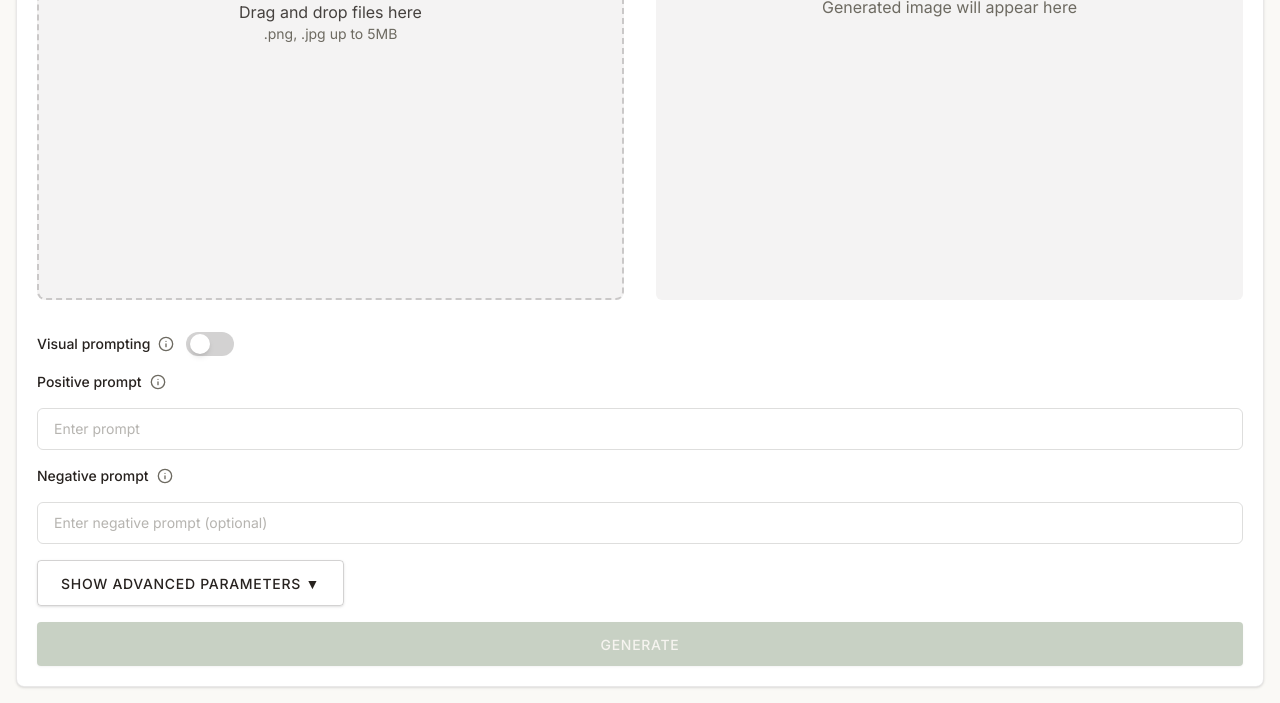
Test case: Outpainting › should show advanced parameters
(page scrolled)
Click the button "Show advanced parameters ▼".
click(190, 583)  # box [37,560,344,606]
(page scrolled)
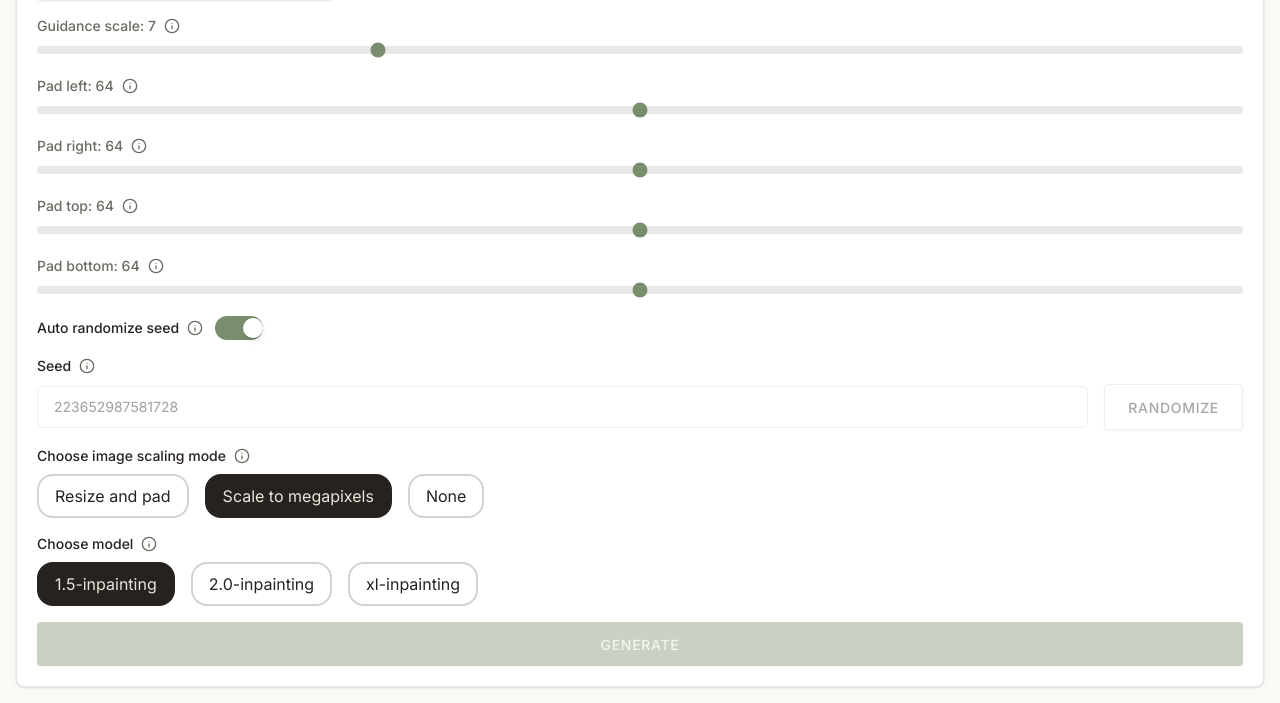
Check: the text "Guidance scale: 7" is shown, box [37,16,156,36]
Check: the text "Pad left: 64" is shown, box [37,76,114,96]
Check: the text "Pad right: 64" is shown, box [37,136,123,156]
